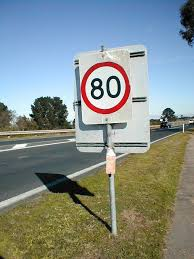Speed_limit_80km: (80, 62, 131, 113)
